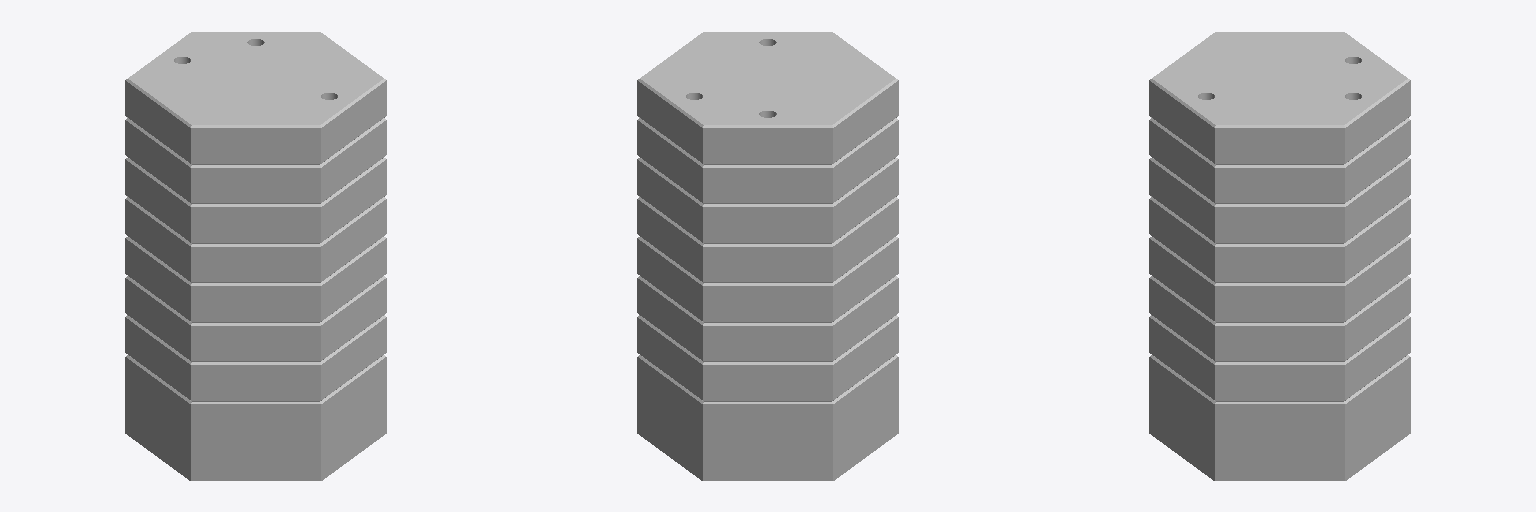
File: lvl8D.obj
3 views of the same model, side by side, from view 1: azimuth 30°, elevation 25°; view 2: azimuth 150°, elevation 25°; view 3: azimuth 270°, elevation 25° (orthographic).
Parts seen in each view (by area): view 1: Lvl8D-3_(Mono-NoMags); view 2: Lvl8D-3_(Mono-NoMags); view 3: Lvl8D-3_(Mono-NoMags).
Boxes of the visible parts, box(x1,y1,x2,y2) form: Lvl8D-3_(Mono-NoMags): box(125, 32, 386, 480); Lvl8D-3_(Mono-NoMags): box(637, 32, 898, 480); Lvl8D-3_(Mono-NoMags): box(1149, 32, 1410, 480).
Size of the model in its own units: 3.13 by 5.43 by 3.62.